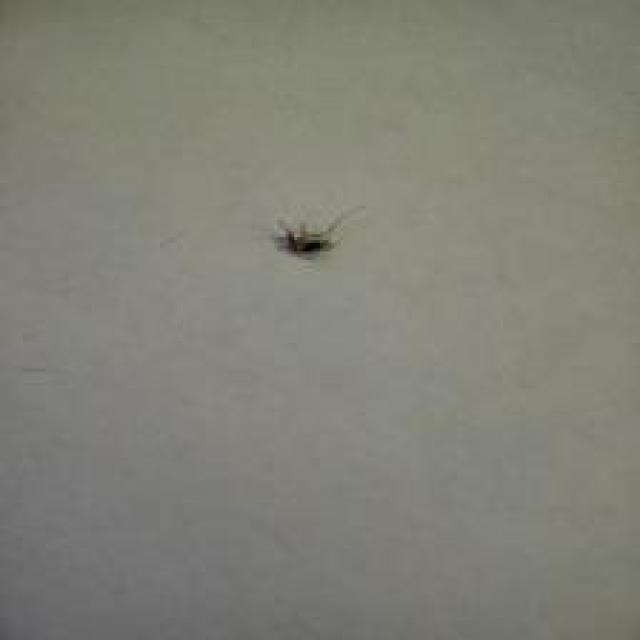Culex: (270, 203, 367, 260)
